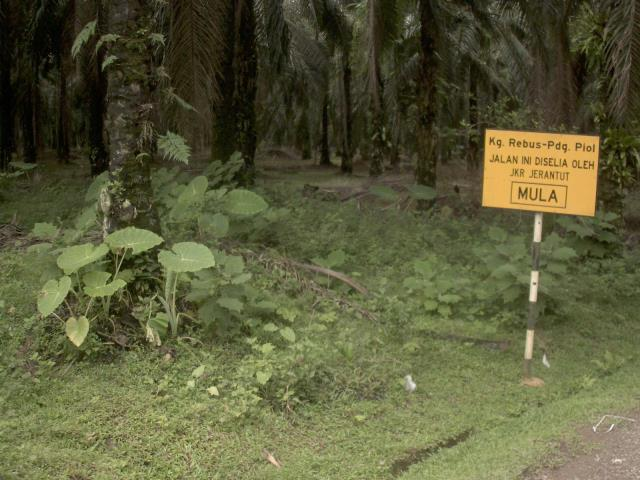ads_sign: (468, 118, 610, 226)
